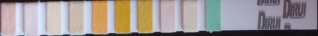color 1: (1, 4, 14, 34)
color 10: (207, 1, 219, 28)
color 2: (25, 5, 38, 34)
color 3: (48, 4, 60, 33)
color 4: (70, 3, 82, 33)
color 5: (94, 3, 106, 32)
color 6: (116, 3, 128, 32)
color 7: (139, 2, 151, 30)
color 8: (161, 1, 172, 31)
color 9: (183, 2, 196, 30)
